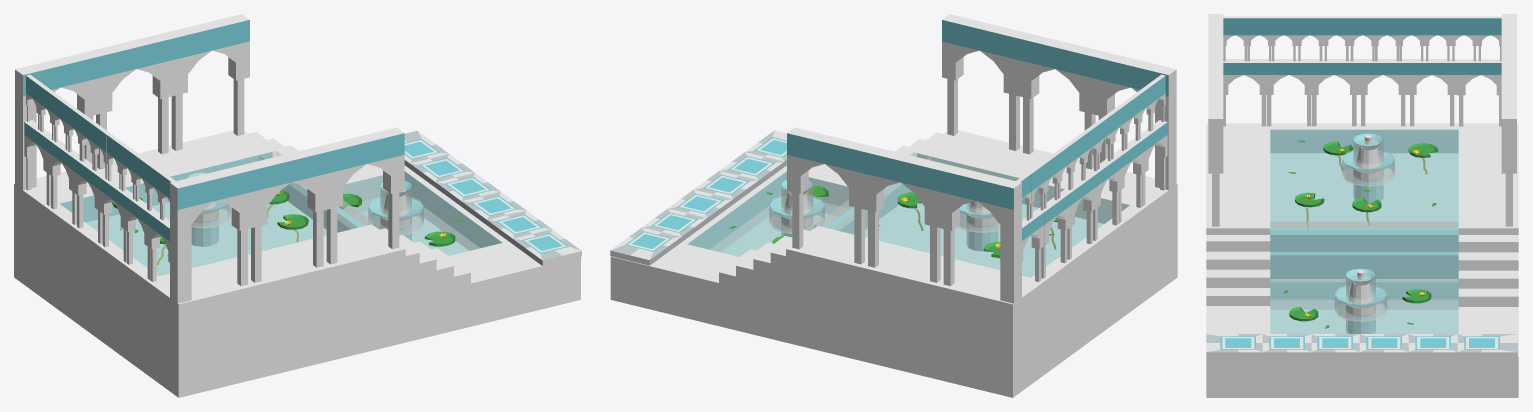
3 renders of one model, left to right at view 1: azimuth 30°, elevation 25°; view 2: azimuth 150°, elevation 25°; view 3: azimuth 270°, elevation 25°, orthographic. The views are drawn at different scales.
Visible parts, largest first — view 1: Node; view 2: Node; view 3: Node.
Part boxes in pixels (x1,y1,x2,y2): Node: (14,14,581,397); Node: (610,14,1177,397); Node: (1206,14,1518,397).
Bounding box in the file's own units: 1.17 × 0.58 × 0.8303.
2 materials, 2 textured.
